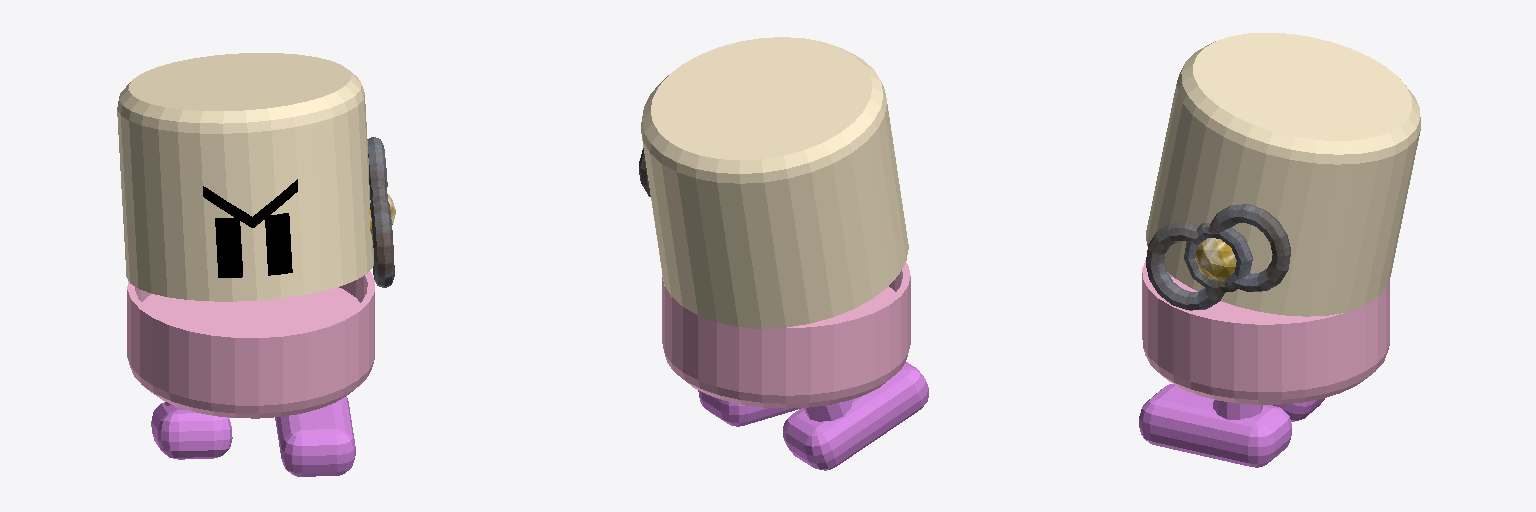
3 views of the same model, side by side, from view 1: azimuth 30°, elevation 25°; view 2: azimuth 150°, elevation 25°; view 3: azimuth 270°, elevation 25° (orthographic).
Visible parts, largest first — view 1: Head, Jaw, LeftLeg, RightLeg, WindupKey; view 2: Head, Jaw, RightLeg, LeftLeg; view 3: Head, Jaw, WindupKey, LeftLeg, RightLeg.
Boxes of the visible parts, box(x1,y1,x2,y2) form: Head: box(117, 53, 373, 301); Jaw: box(127, 271, 374, 418); LeftLeg: box(275, 396, 355, 476); RightLeg: box(151, 402, 232, 459); WindupKey: box(367, 137, 395, 287); Head: box(641, 37, 908, 328); Jaw: box(662, 263, 910, 408); RightLeg: box(783, 362, 928, 470); LeftLeg: box(698, 390, 800, 426); Head: box(1146, 33, 1420, 316); Jaw: box(1142, 260, 1389, 404); WindupKey: box(1146, 204, 1290, 310); LeftLeg: box(1139, 384, 1291, 467); RightLeg: box(1273, 398, 1324, 421).
Size of the model in its own units: 118 by 165 by 113.
6 materials, 2 textured.